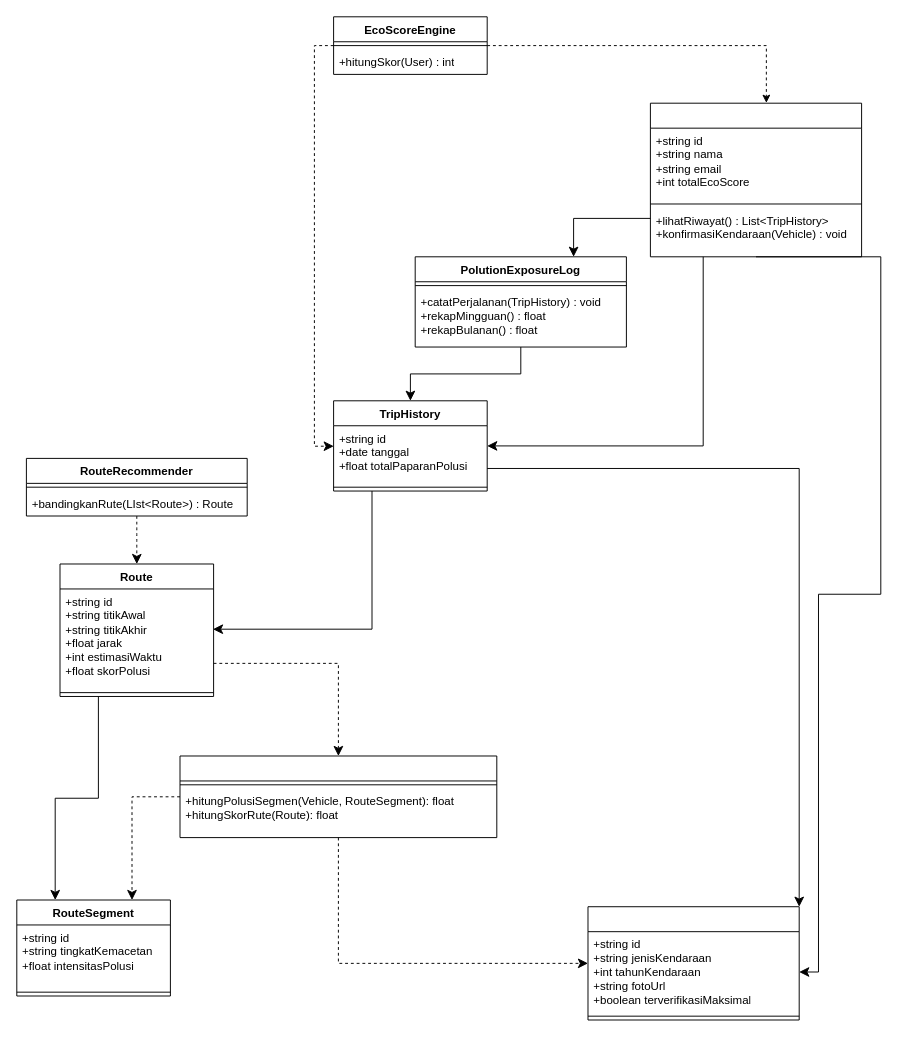
Image size: 907x1037. Some labels were removed from this diagram. Here are the shapes that lost their labels. From the top down, the box of each, then its label:
(649, 102, 862, 257): User
(179, 755, 497, 838): PollutionCalculator
(587, 906, 799, 1020): Vehicle
